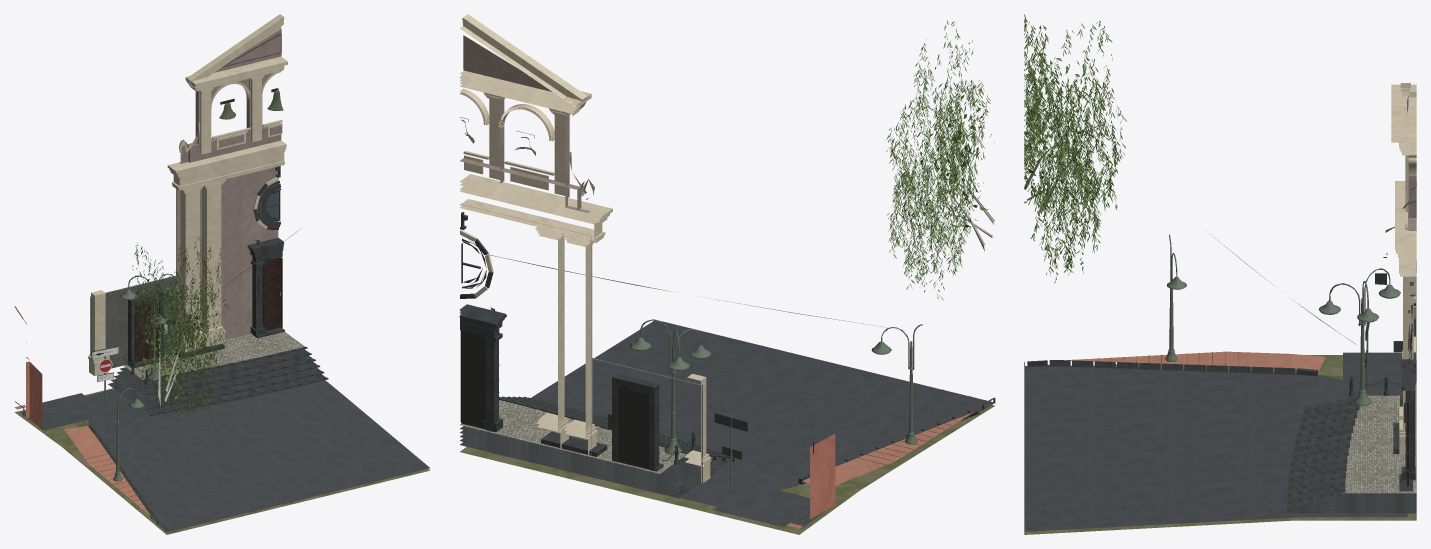
The model's file is -1_0_a964476bdee0.glb.
The picture shows the model from 3 angles, left to right: view 1: azimuth 30°, elevation 25°; view 2: azimuth 150°, elevation 25°; view 3: azimuth 270°, elevation 25°; orthographic projection. The views are drawn at different scales.
Bounding box in the file's own units: 16 × 20.1 × 16.
27 materials, 19 textured.
